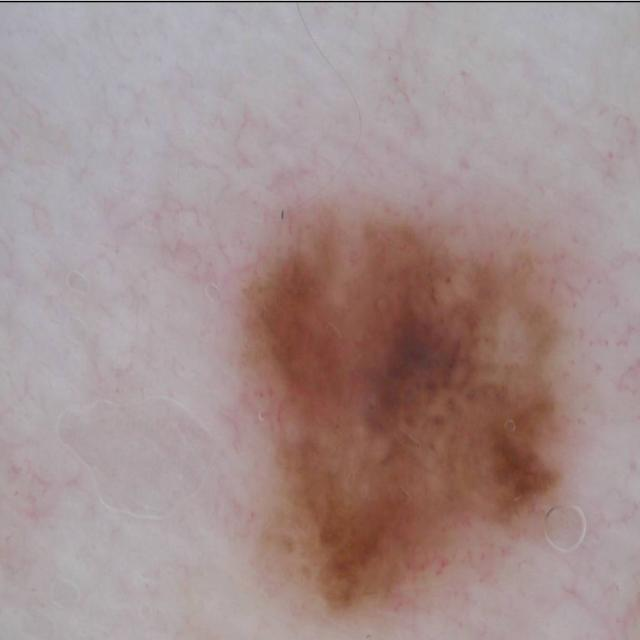Melanoma: (225, 185, 603, 631)
